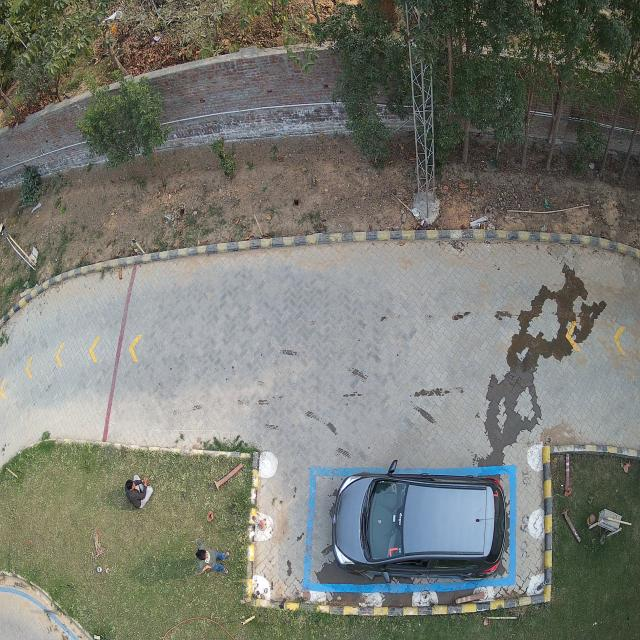car: (332, 473, 508, 582)
